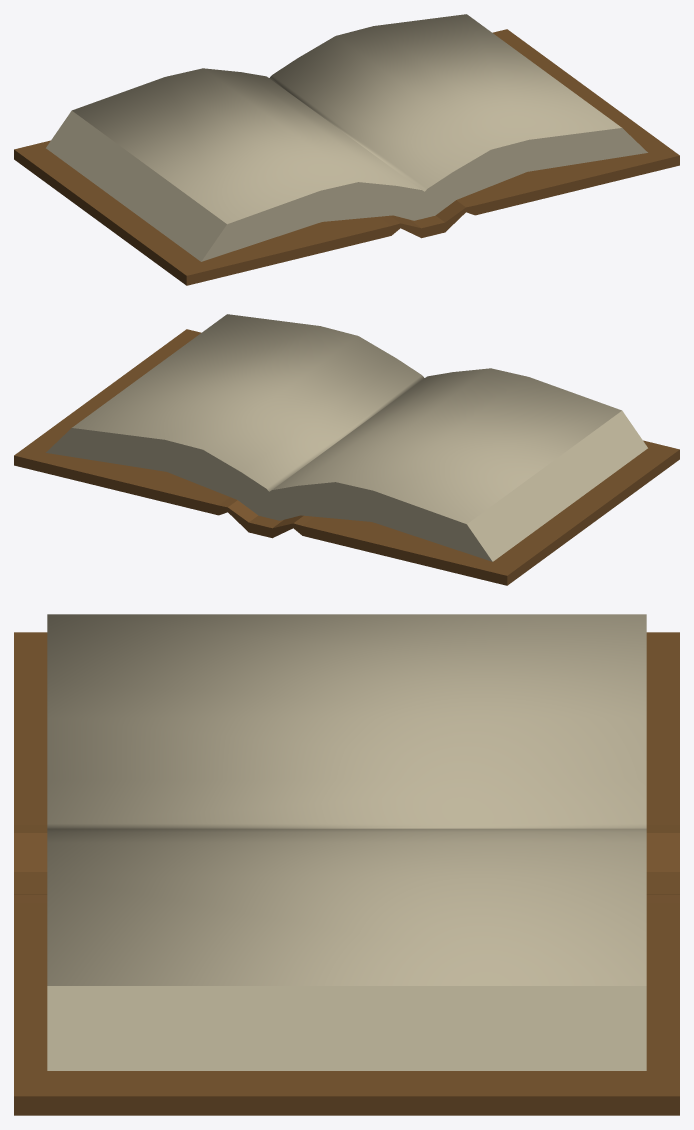
File: book_open.gltf
The picture shows the model from 3 angles, top to bottom: view 1: azimuth 30°, elevation 25°; view 2: azimuth 150°, elevation 25°; view 3: azimuth 270°, elevation 25°; orthographic projection. The views are drawn at different scales.
Parts seen in each view (by area): view 1: Book_Open; view 2: Book_Open; view 3: Book_Open.
Part boxes in pixels (<box>): Book_Open: <box>14,14,679,285</box>; Book_Open: <box>14,314,679,585</box>; Book_Open: <box>14,614,679,1115</box>.
Bounding box in the file's own units: 0.6315 × 0.078 × 0.3831.
Materials: 2 (2 with a texture image).
